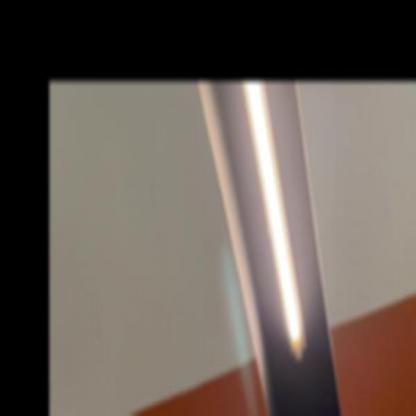light_on: (236, 81, 314, 385)
